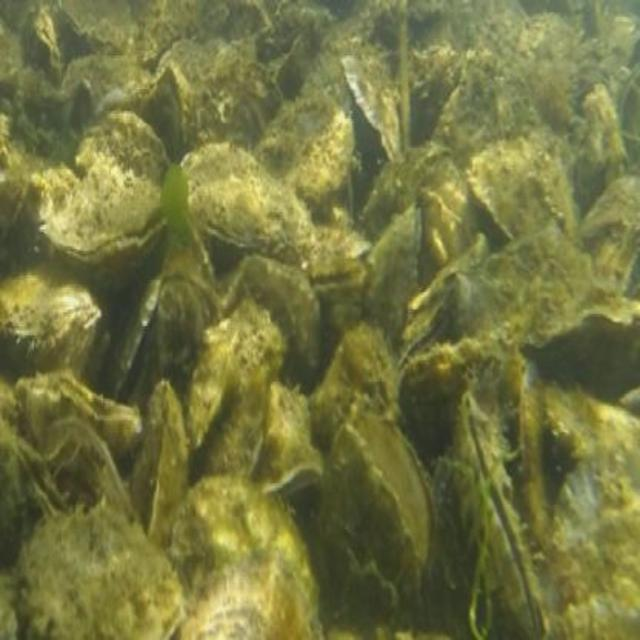Oyster-Closed: (173, 476, 321, 638), (17, 506, 185, 638), (40, 112, 171, 271), (188, 301, 284, 489), (326, 427, 420, 607), (547, 462, 638, 638), (185, 140, 313, 256), (220, 249, 319, 397), (404, 341, 527, 450), (360, 411, 437, 578), (468, 132, 579, 243), (258, 89, 351, 202), (0, 274, 100, 377), (132, 382, 190, 554), (395, 272, 483, 382), (543, 382, 638, 483), (365, 206, 426, 361), (155, 270, 221, 402), (579, 178, 638, 297), (342, 43, 400, 157), (519, 367, 553, 543), (143, 62, 200, 165), (191, 345, 235, 449), (268, 553, 321, 638)
Oyster-Open: (454, 385, 563, 638), (17, 367, 144, 464), (10, 435, 67, 519), (308, 252, 368, 295), (270, 467, 324, 504)
